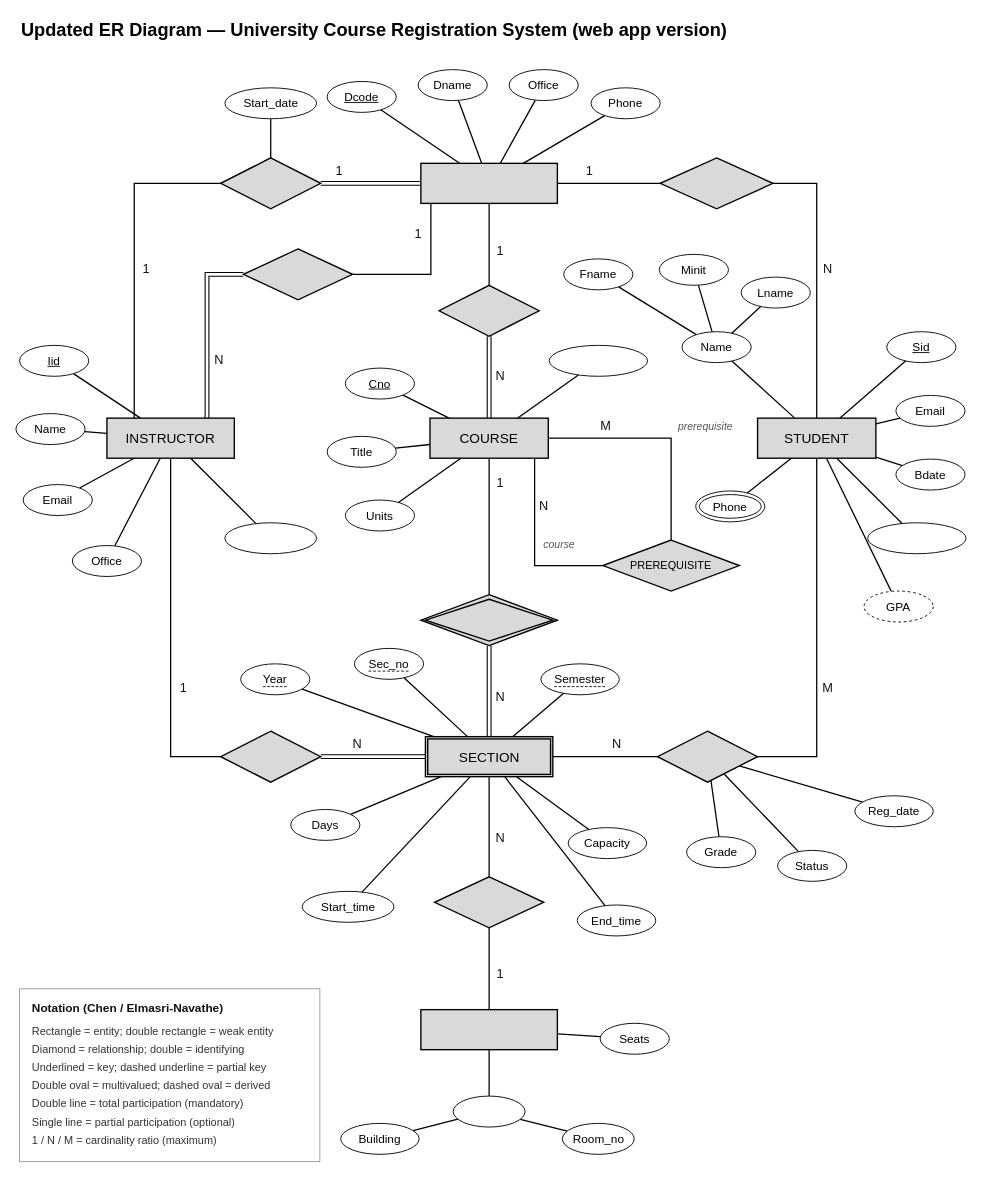
Image size: 983x1178. Some labels were removed from this diagram. Each missing label, with the centre of its shape:
CHAIRS: the point at 270,183
Class_level: the point at 916,538
CLASSROOM: the point at 489,1029
DEPARTMENT: the point at 489,183
Description: the point at 598,360
ENROLLS: the point at 707,756
HAS_SECTION: the point at 489,620
Instr_rank: the point at 270,538
MAJORS_IN: the point at 716,183
MEETS_IN: the point at 488,902
OFFERS: the point at 488,310
Room_id: the point at 488,1111
TEACHES: the point at 270,756
WORKS_IN: the point at 297,274
